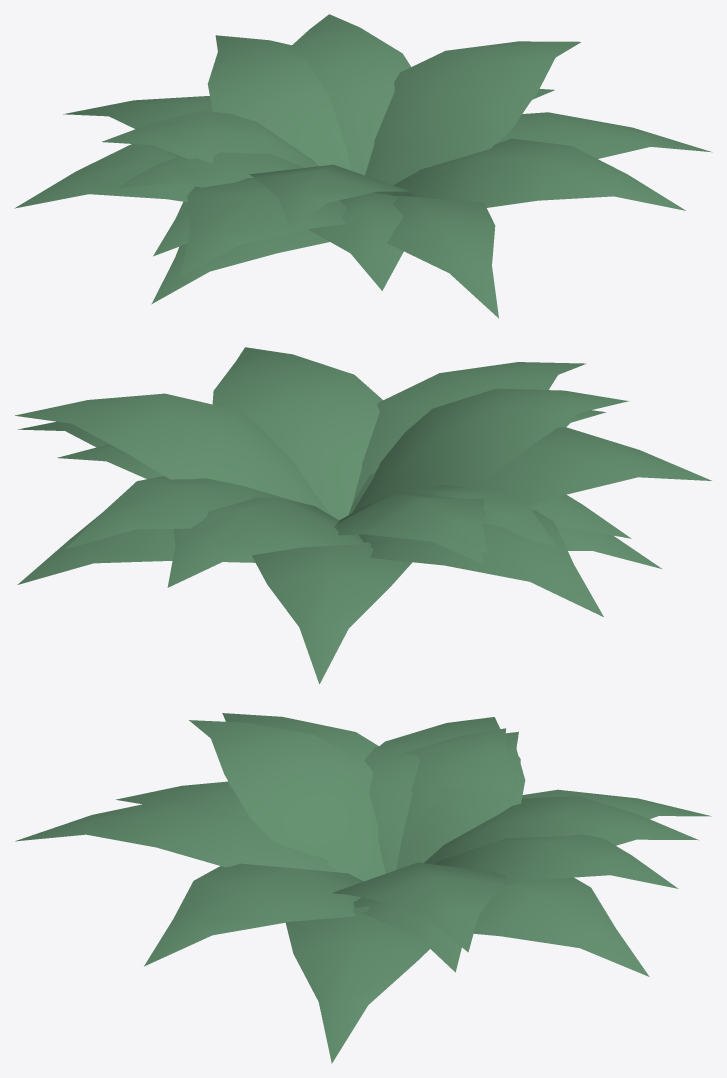
Rendered from hosta.glb.
3 views of the same model, one above another, from view 1: azimuth 30°, elevation 25°; view 2: azimuth 150°, elevation 25°; view 3: azimuth 270°, elevation 25° (orthographic). The views are drawn at different scales.
Visible parts, largest first — view 1: hosta; view 2: hosta; view 3: hosta.
Part boxes in pixels (box(x1,y1,x2,y2)): hosta: box(14, 14, 712, 318); hosta: box(15, 347, 711, 684); hosta: box(15, 713, 711, 1063).
Size of the model in its own units: 2.55 by 0.4526 by 2.43.
